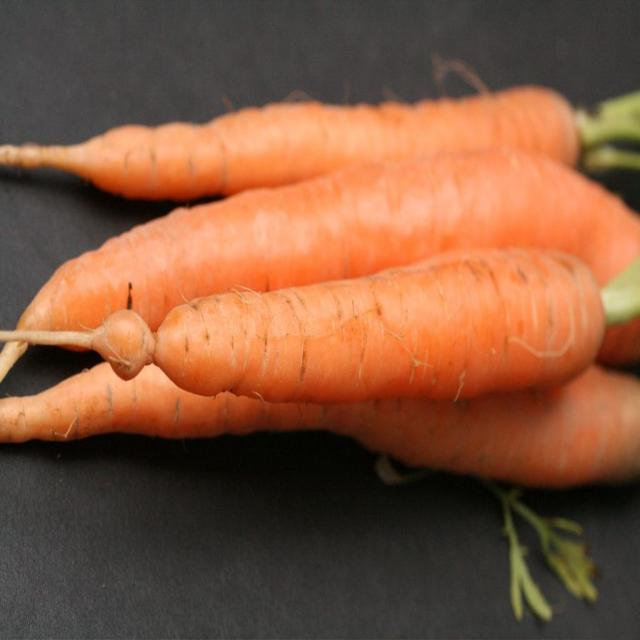Carrot: (0, 243, 640, 407)
